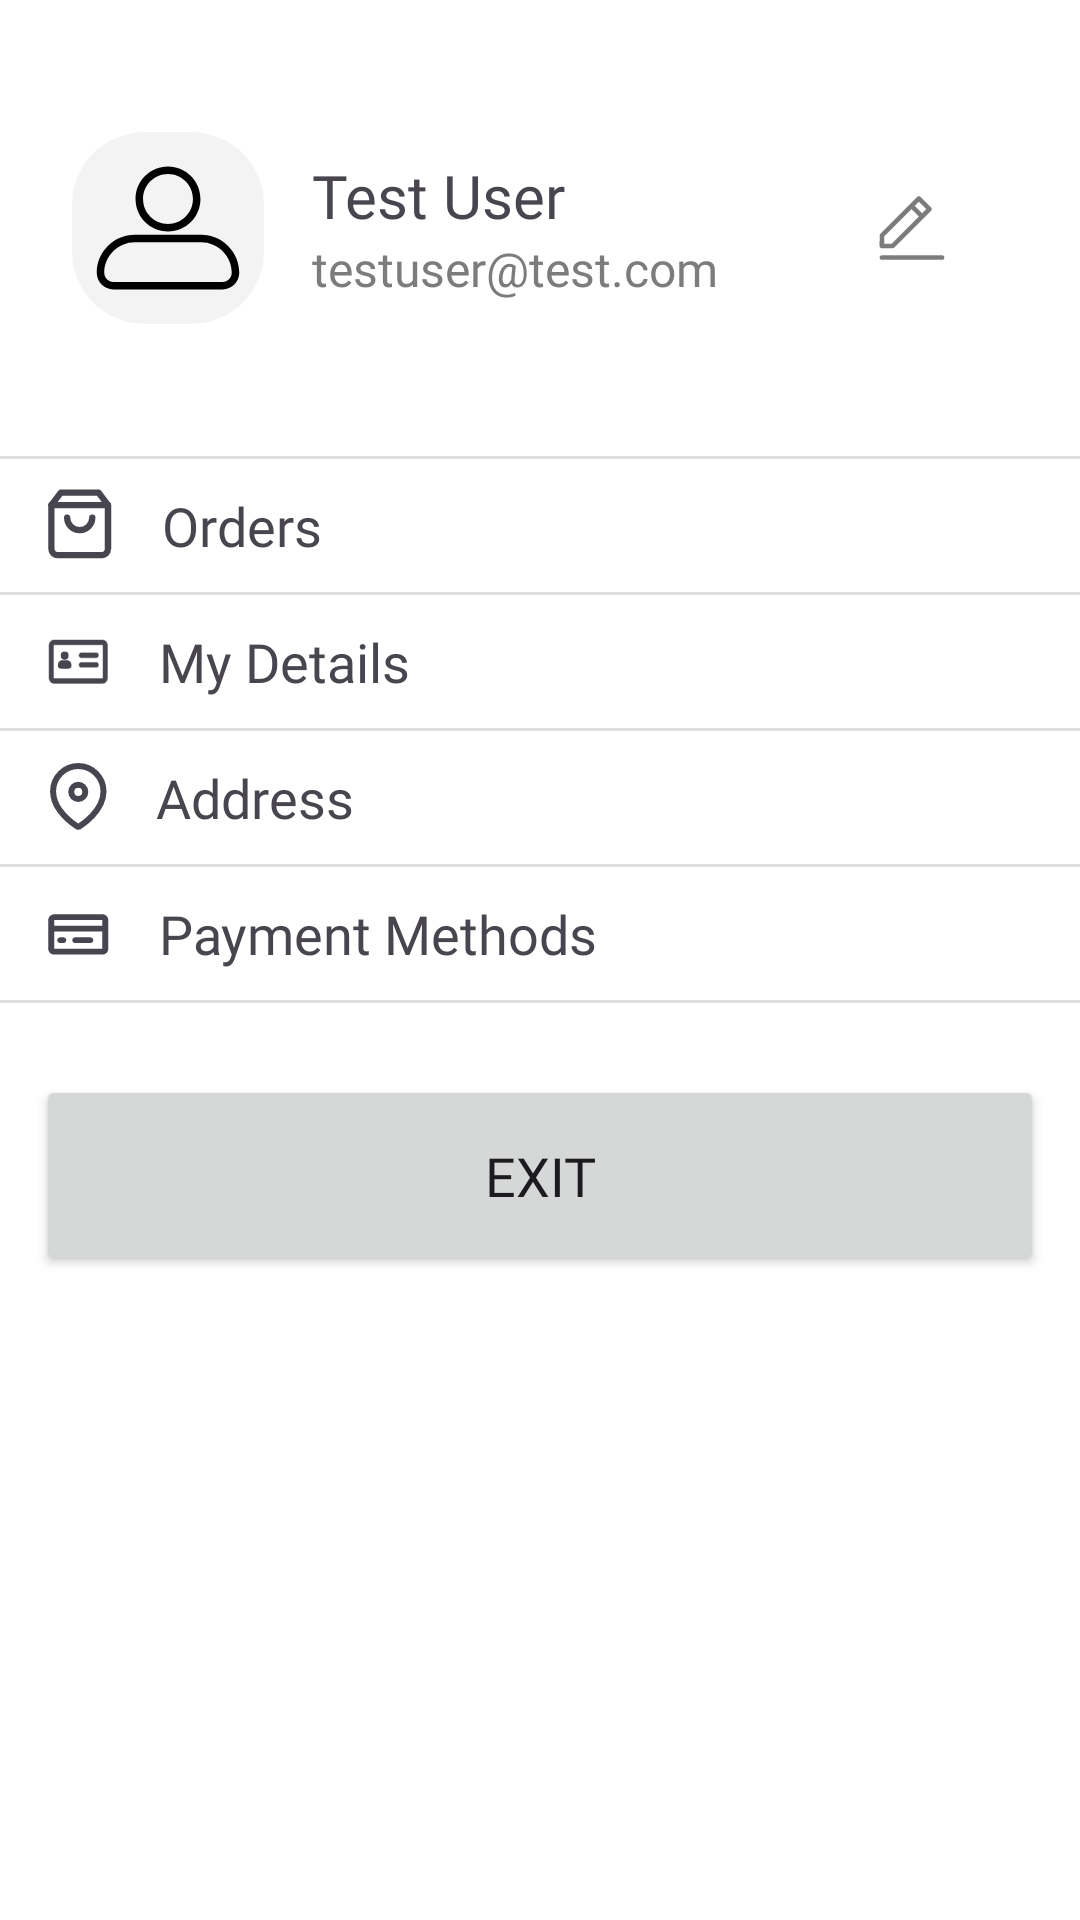

Screen size 1080×1920. Icon name, then its box in pixels as (x1, y1, x2, y2):
edit: (879, 196, 945, 260)
